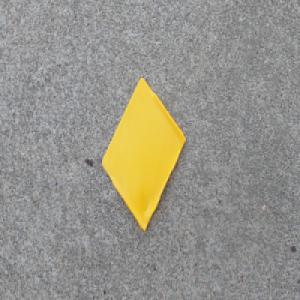PlasticPart: (99, 75, 186, 234)
